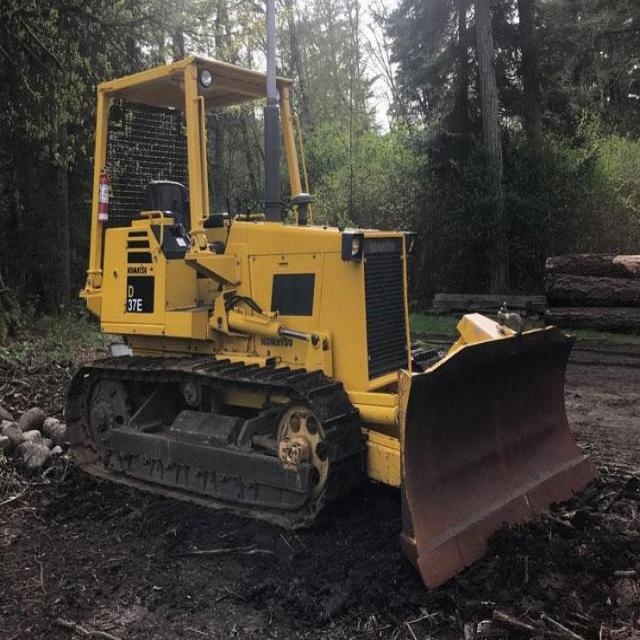Bulldozer: (41, 43, 602, 602)
